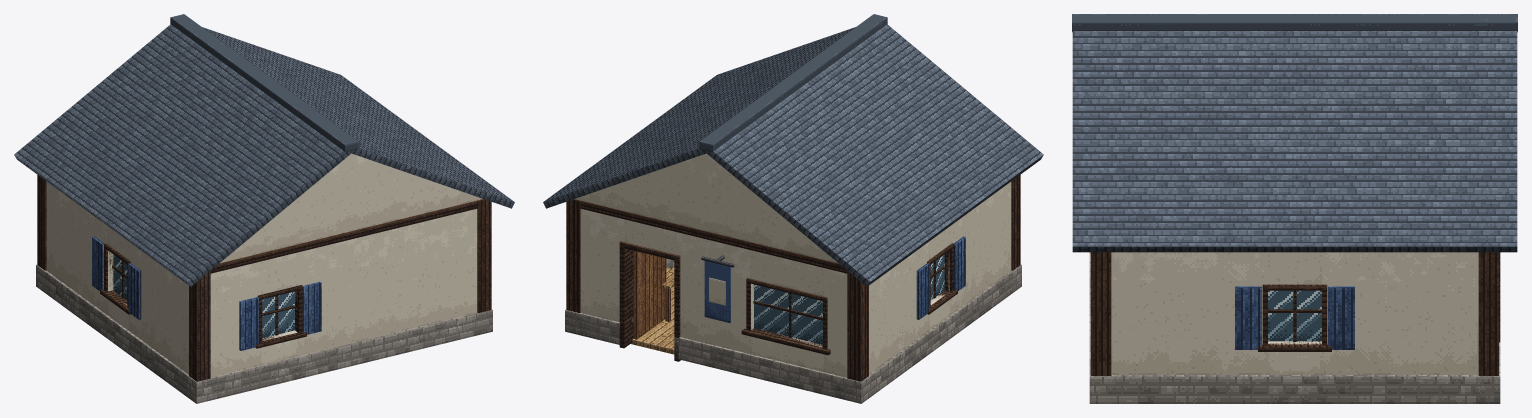
Rendered from tailor.glb.
3 renders of one model, left to right at view 1: azimuth 30°, elevation 25°; view 2: azimuth 150°, elevation 25°; view 3: azimuth 270°, elevation 25°, orthographic. The views are drawn at different scales.
Visible parts, largest first — view 1: tailor; view 2: tailor; view 3: tailor.
Part boxes in pixels (box(x1,y1,x2,y2)): tailor: box(14, 14, 514, 403); tailor: box(543, 14, 1043, 403); tailor: box(1072, 14, 1517, 403).
Bounding box in the file's own units: 7.17 × 4.9 × 6.62.
Materials: 12 (12 with a texture image).
